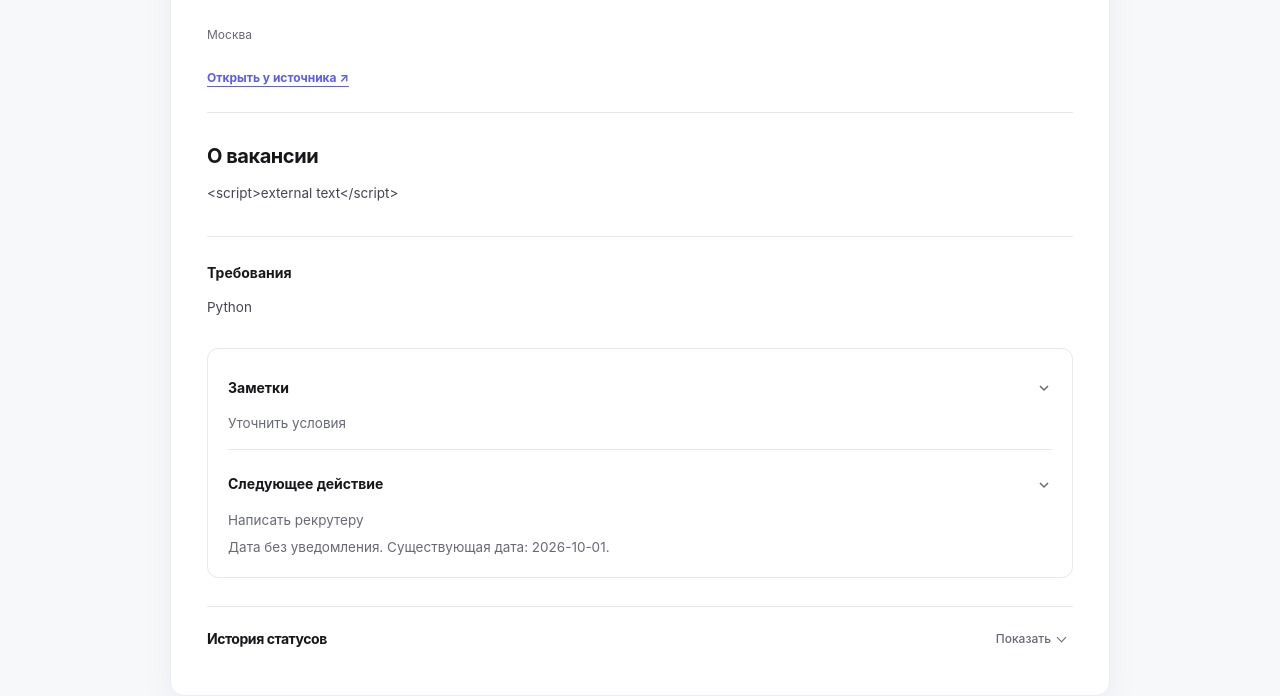
it: refreshes loaded history after confirmed detail GET and displays the new event
(page scrolled)
Click the button with aria-label "Показать историю статусов" at x=1030, y=639, box [988,619,1073,659]
(page scrolled)
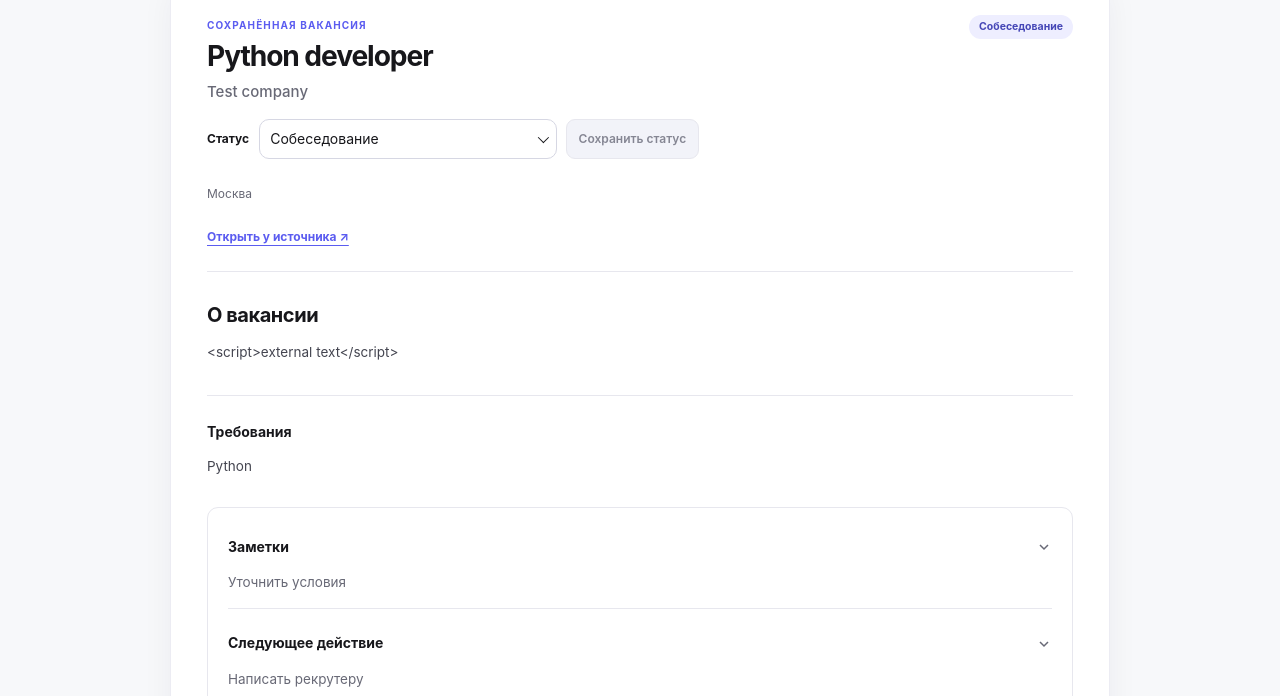
Click the dropdown named "Статус " at x=324, y=138, box [259,119,557,159]
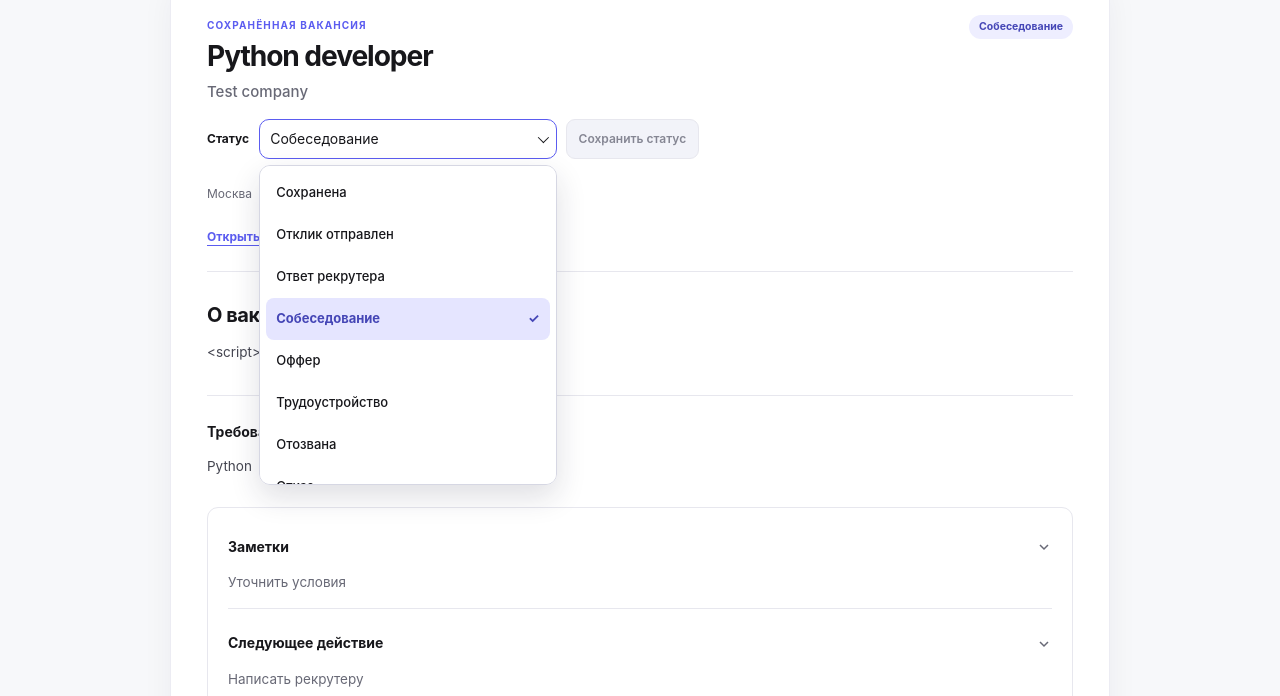
Click the option "Оффер" at x=298, y=360, box [266,340,550,382]
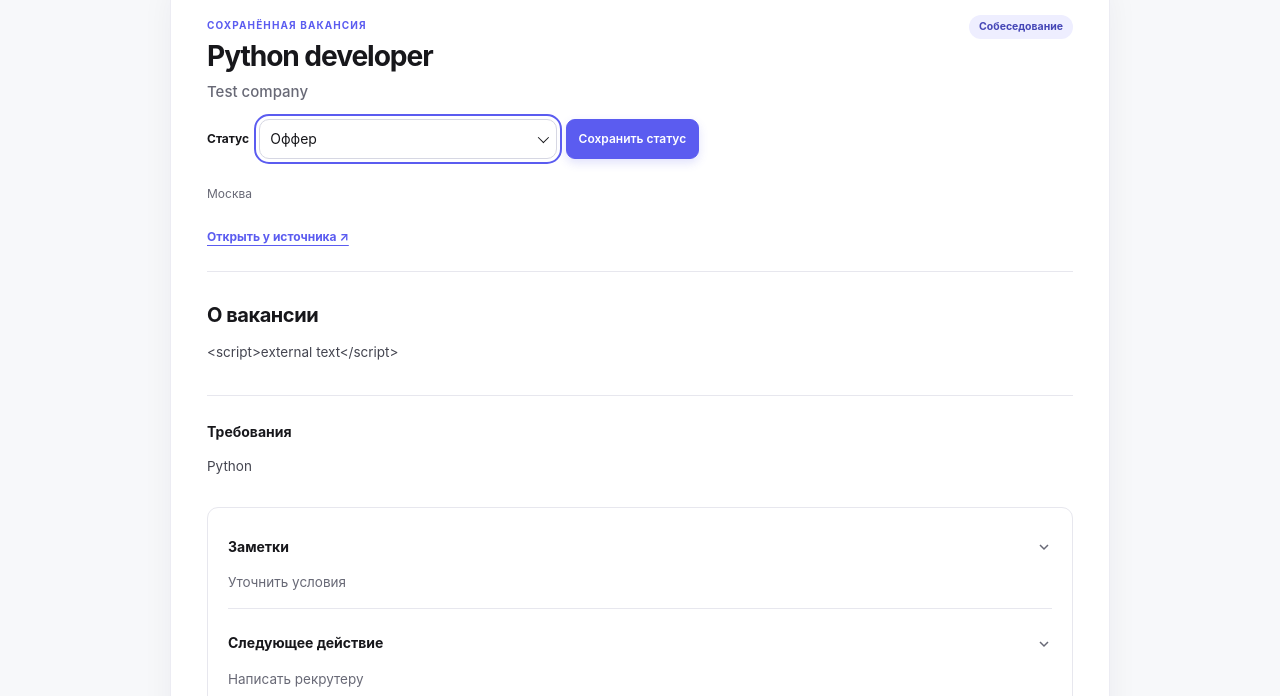
Click the button "Сохранить статус" at x=632, y=139, box [566,119,699,159]
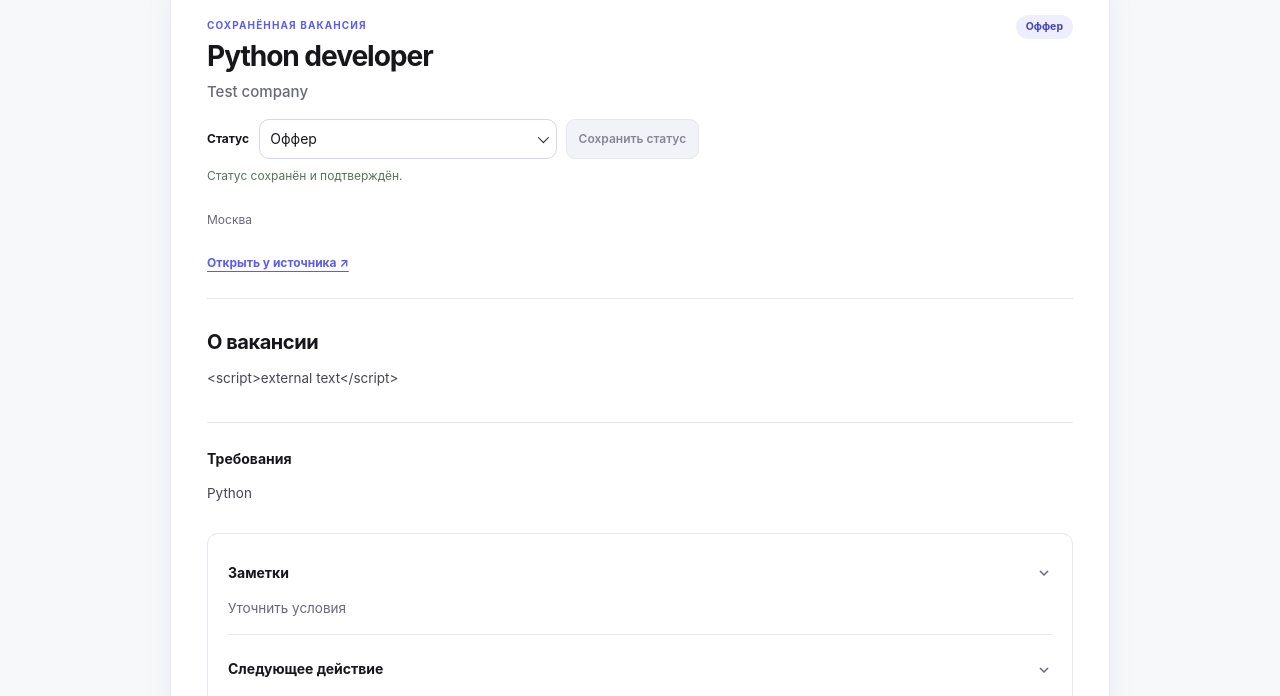
Now the text with class "status-badge" reads "Оффер", box [1026,20,1063,33]
Now the button "Сохранить статус" is disabled, box [566,119,699,159]
